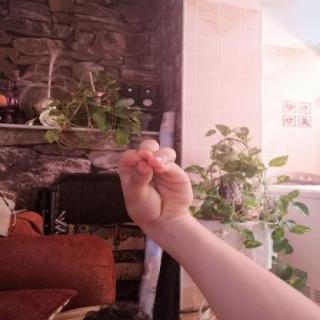HA: (105, 131, 206, 238)
